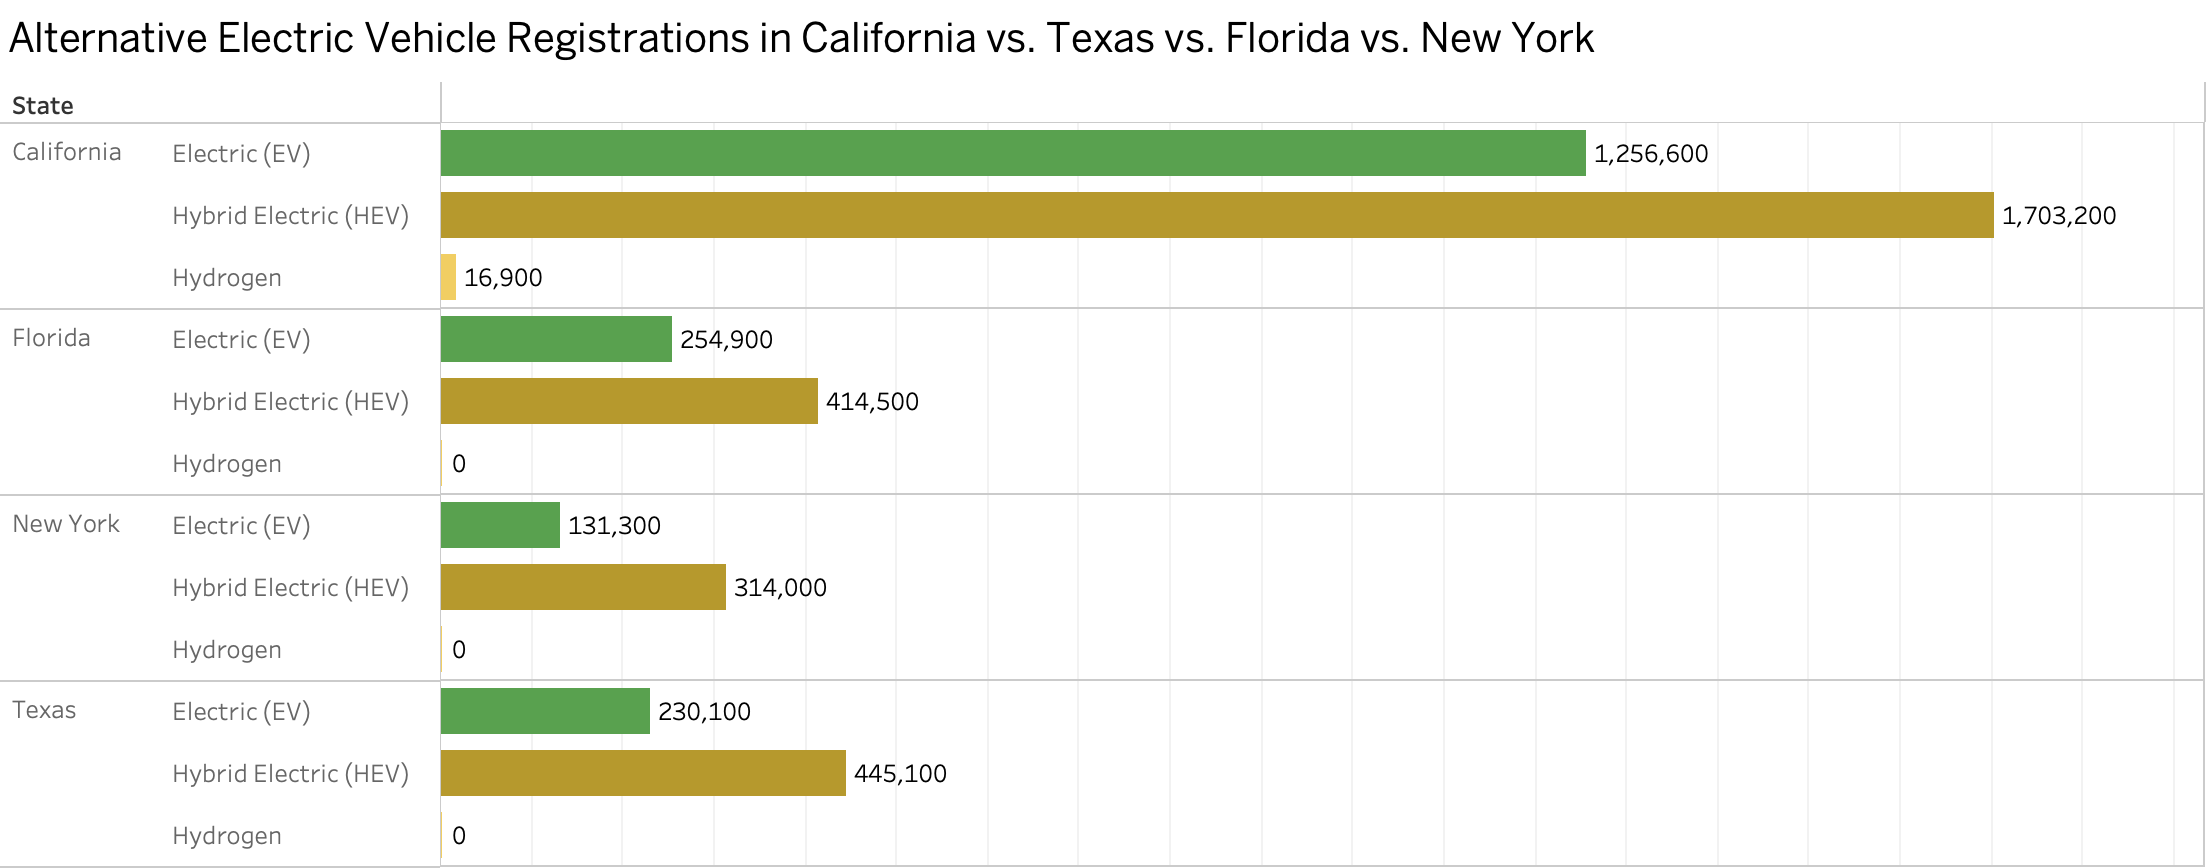

The page's visual inventory and layout, read from the dashboard file:
{"tool":"tableau","page":{"name":"Dashboard 2","canvas":[1000,1000],"units":"permille","ordinal":1},"visuals":[{"type":"worksheet","title":"Sheet 3","mark":"Automatic","rows":["State"],"box":[5.5,8.1,988.9,983.9]}]}

Visuals, with their boxes on the dashboard's canvas, which has no fixed pixel size, in thousandths of its width and height (x1, y1, x2, y2). These are canvas units, not pixel positions in the 2208x868 screenshot, which may show the page scaled, cropped or inside an application window:
"Sheet 3" worksheet: (6,8,994,992)
